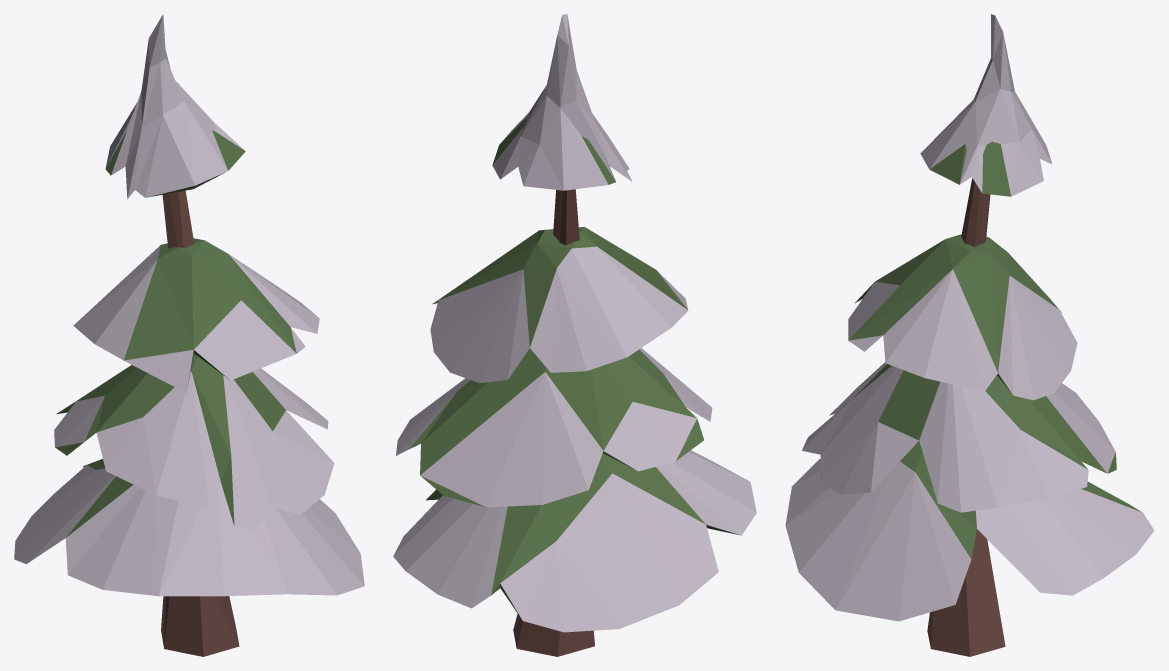
Rendered from PineTree_Snow_2.lod2.glb.
The picture shows the model from 3 angles, left to right: view 1: azimuth 30°, elevation 25°; view 2: azimuth 150°, elevation 25°; view 3: azimuth 270°, elevation 25°; orthographic projection. The views are drawn at different scales.
Visible parts, largest first — view 1: PineTree_Snow_2; view 2: PineTree_Snow_2; view 3: PineTree_Snow_2.
Boxes of the visible parts, bbox=[...] form: PineTree_Snow_2: bbox=[14, 14, 364, 656]; PineTree_Snow_2: bbox=[393, 14, 756, 656]; PineTree_Snow_2: bbox=[785, 14, 1154, 656].
Size of the model in its own units: 1.79 by 3.57 by 1.95.
